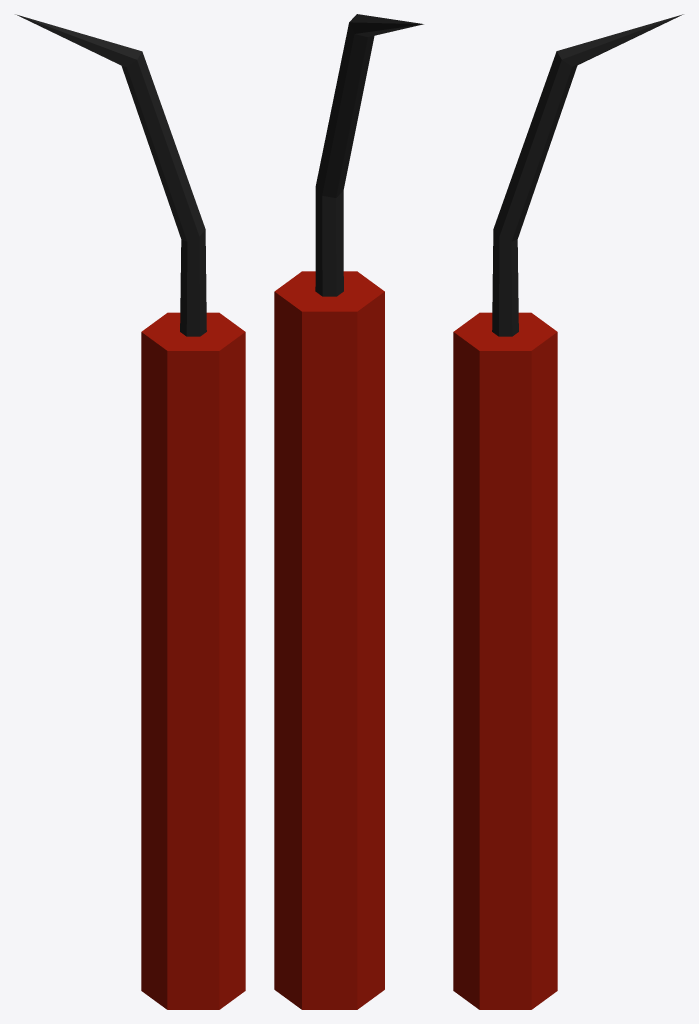
Rendered from Dynamite_Small.fbx.
3 renders of one model, left to right at view 1: azimuth 90°, elevation 25°; view 2: azimuth 210°, elevation 25°; view 3: azimuth 270°, elevation 25°, orthographic. The views are drawn at different scales.
Parts seen in each view (by area): view 1: Dynamite_Small; view 2: Dynamite_Small; view 3: Dynamite_Small.
Part boxes in pixels (x1,y1,x2,y2): Dynamite_Small: (15, 14, 245, 1009); Dynamite_Small: (274, 14, 423, 1009); Dynamite_Small: (453, 14, 683, 1009).
Size of the model in its own units: 2.5 by 29.83 by 6.39.
